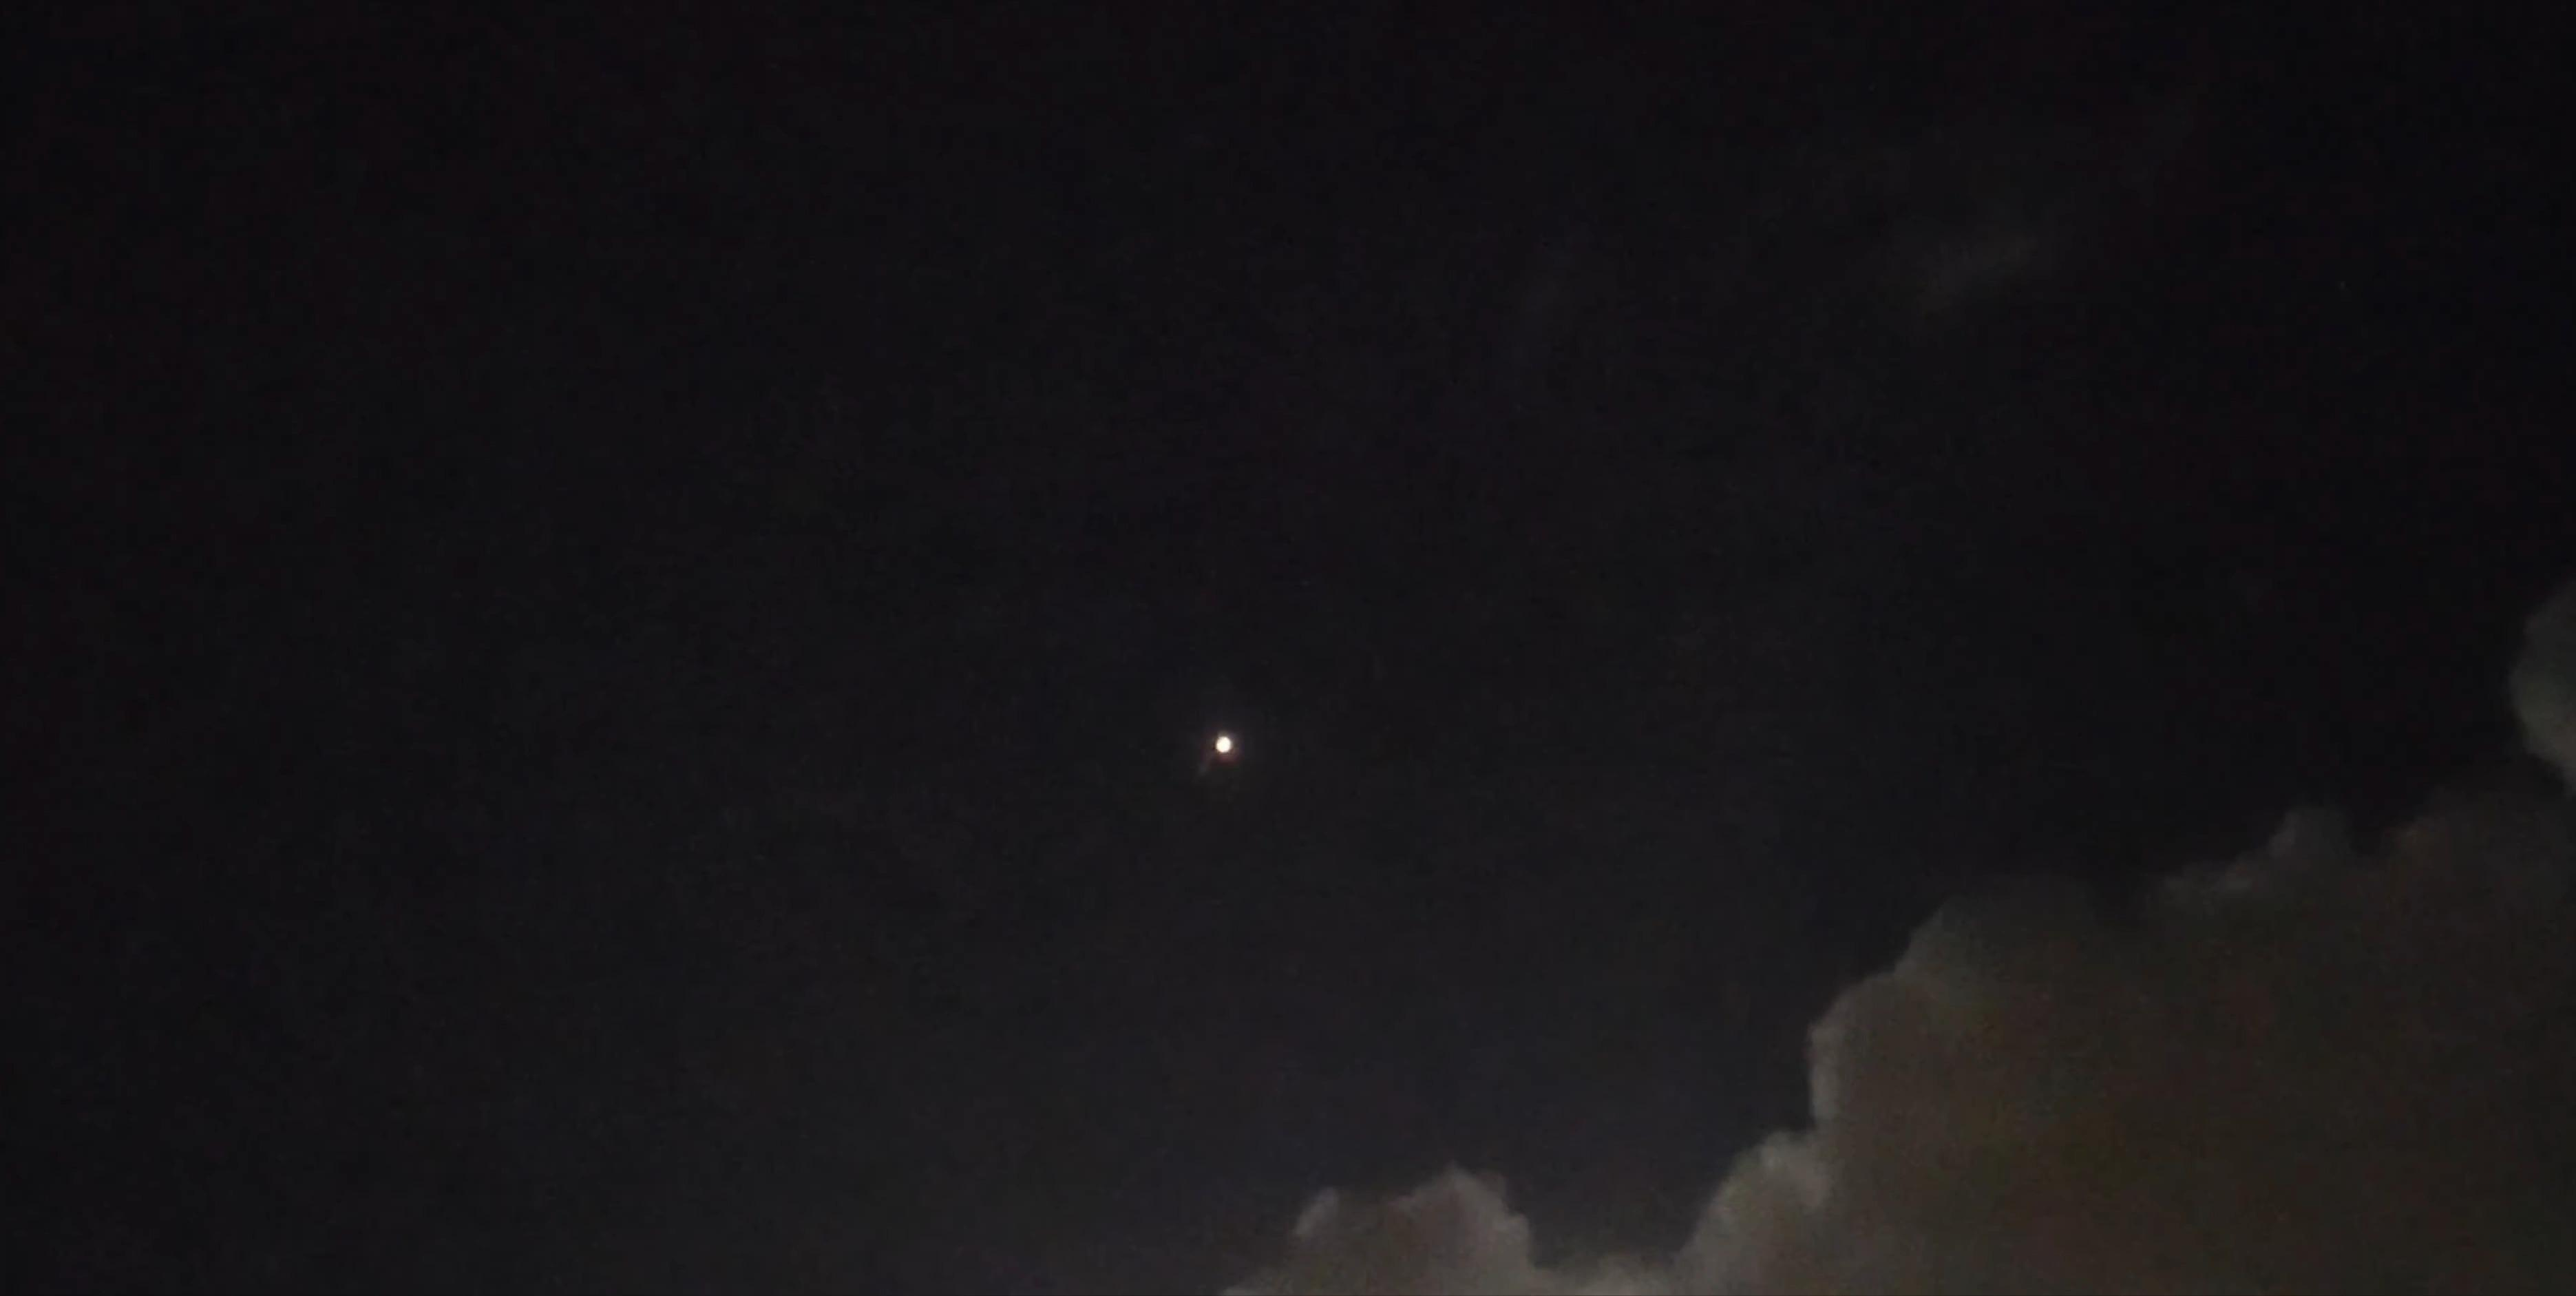Plane: (1140, 703, 1305, 807)
